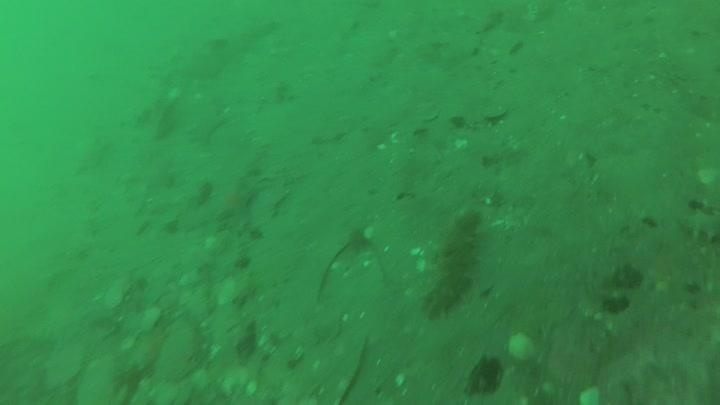holothurian: (419, 206, 486, 319)
starfish: (212, 180, 259, 222)
